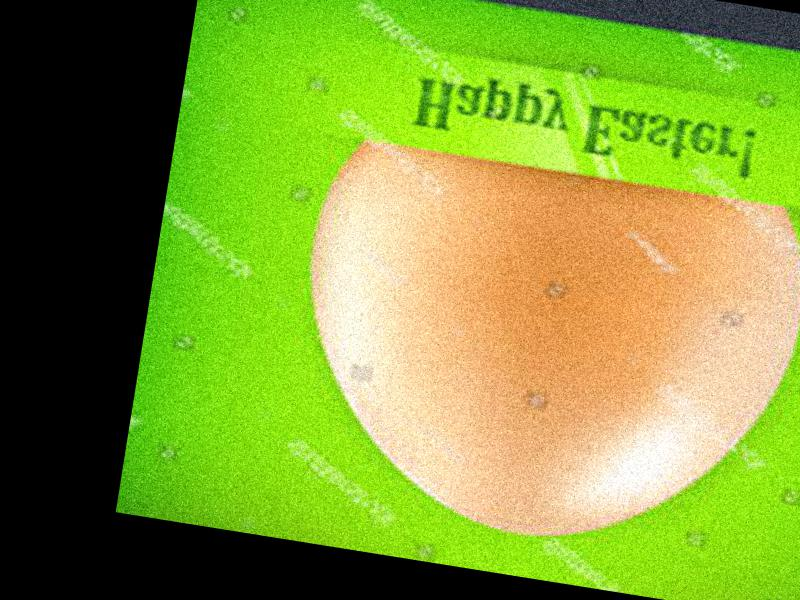Eggs: (275, 135, 800, 572)
